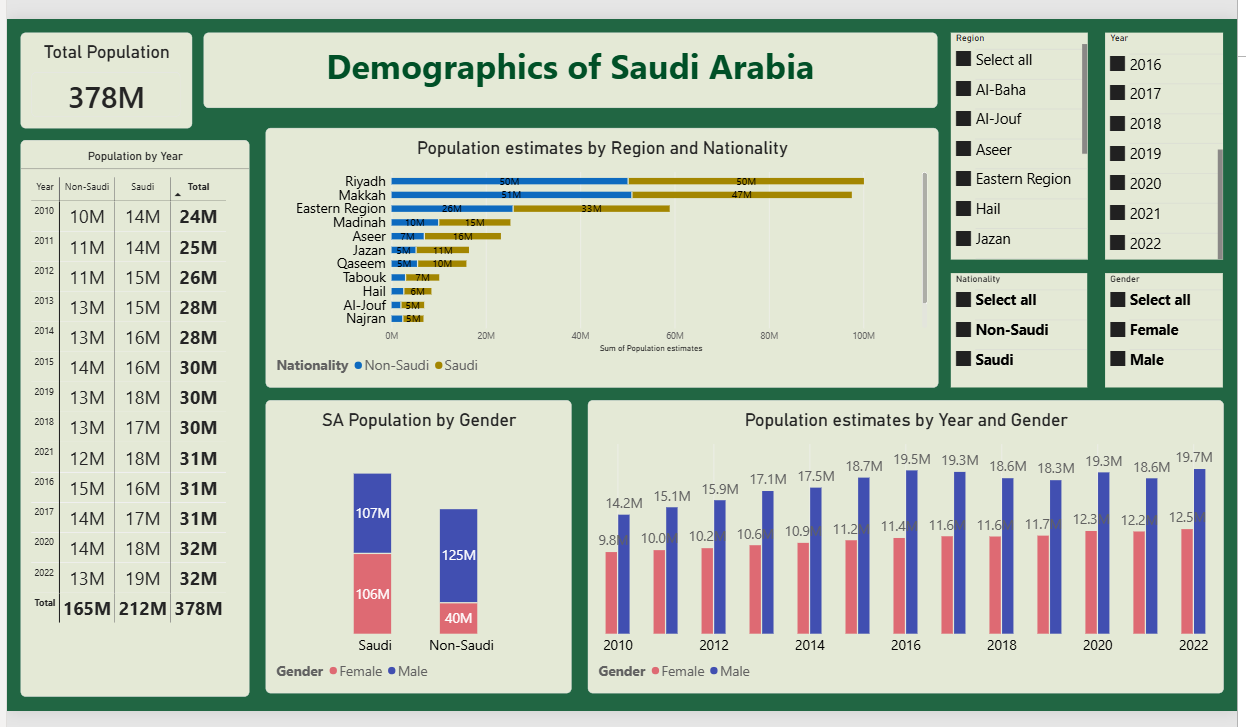

This screenshot's page, from the dashboard's own definition file:
{"tool":"powerbi","page":{"name":"Page 1","canvas":[1920,1080],"ordinal":0},"visuals":[{"type":"columnChart","title":"SA Population by Gender","fields":{"Category":["Population estimates by gender nationality and region 2010 - 2022_data.Nationality"],"Y":["Sum(Population estimates by gender nationality and region 2010 - 2022_data.Population estimates)"],"Series":["Population estimates by gender nationality and region 2010 - 2022_data.Gender"]},"box":[402.7,595.5,477.5,457.4],"z":0},{"type":"cardVisual","title":"Total Population","fields":{"Data":["Sum(Population estimates by gender nationality and region 2010 - 2022_data.Population estimates)"]},"box":[20.1,20.1,267.5,149.6],"z":1000},{"type":"textbox","box":[307.8,20.1,1144.9,117.9],"z":2000},{"type":"pivotTable","title":"Population by Year","fields":{"Rows":["Population estimates by gender nationality and region 2010 - 2022_data.Year"],"Values":["Sum(Population estimates by gender nationality and region 2010 - 2022_data.Population estimates)"],"Columns":["Population estimates by gender nationality and region 2010 - 2022_data.Nationality"]},"box":[20.1,189.9,356.7,868.8],"z":3000},{"type":"slicer","fields":{"Values":["Population estimates by gender nationality and region 2010 - 2022_data.Year"]},"box":[1714.5,20.1,184.1,353.8],"z":4000},{"type":"slicer","fields":{"Values":["Population estimates by gender nationality and region 2010 - 2022_data.Region"]},"box":[1472.9,20.1,212.9,353.8],"z":5000},{"type":"slicer","fields":{"Values":["Population estimates by gender nationality and region 2010 - 2022_data.Gender"]},"box":[1714.5,397,184.1,178.4],"z":6000},{"type":"clusteredColumnChart","title":"Population estimates by Year and Gender","fields":{"Y":["Sum(Population estimates by gender nationality and region 2010 - 2022_data.Population estimates)"],"Series":["Population estimates by gender nationality and region 2010 - 2022_data.Gender"],"Category":["Population estimates by gender nationality and region 2010 - 2022_data.Year"]},"box":[906.2,595.5,992.5,457.4],"z":7000},{"type":"slicer","fields":{"Values":["Population estimates by gender nationality and region 2010 - 2022_data.Nationality"]},"box":[1472.9,397,212.9,178.4],"z":8000},{"type":"barChart","title":"Population estimates by Region and Nationality","fields":{"Category":["Population estimates by gender nationality and region 2010 - 2022_data.Region"],"Series":["Population estimates by gender nationality and region 2010 - 2022_data.Nationality"],"Y":["Sum(Population estimates by gender nationality and region 2010 - 2022_data.Population estimates)"]},"box":[402.7,169.7,1050,405.6],"z":9000}]}

Visuals, with their boxes in screenshot pixels (x1, y1, x2, y2):
"SA Population by Gender" columnChart: x1=264 y1=397 x2=570 y2=690
"Total Population" cardVisual: x1=19 y1=29 x2=191 y2=125
textbox: x1=203 y1=29 x2=936 y2=105
"Population by Year" pivotTable: x1=19 y1=138 x2=248 y2=694
slicer - Population estimates by gender nationality and region 2010 - 2022_data.Year: x1=1104 y1=29 x2=1222 y2=256
slicer - Population estimates by gender nationality and region 2010 - 2022_data.Region: x1=949 y1=29 x2=1085 y2=256
slicer - Population estimates by gender nationality and region 2010 - 2022_data.Gender: x1=1104 y1=270 x2=1222 y2=384
"Population estimates by Year and Gender" clusteredColumnChart: x1=586 y1=397 x2=1222 y2=690
slicer - Population estimates by gender nationality and region 2010 - 2022_data.Nationality: x1=949 y1=270 x2=1085 y2=384
"Population estimates by Region and Nationality" barChart: x1=264 y1=125 x2=936 y2=384
